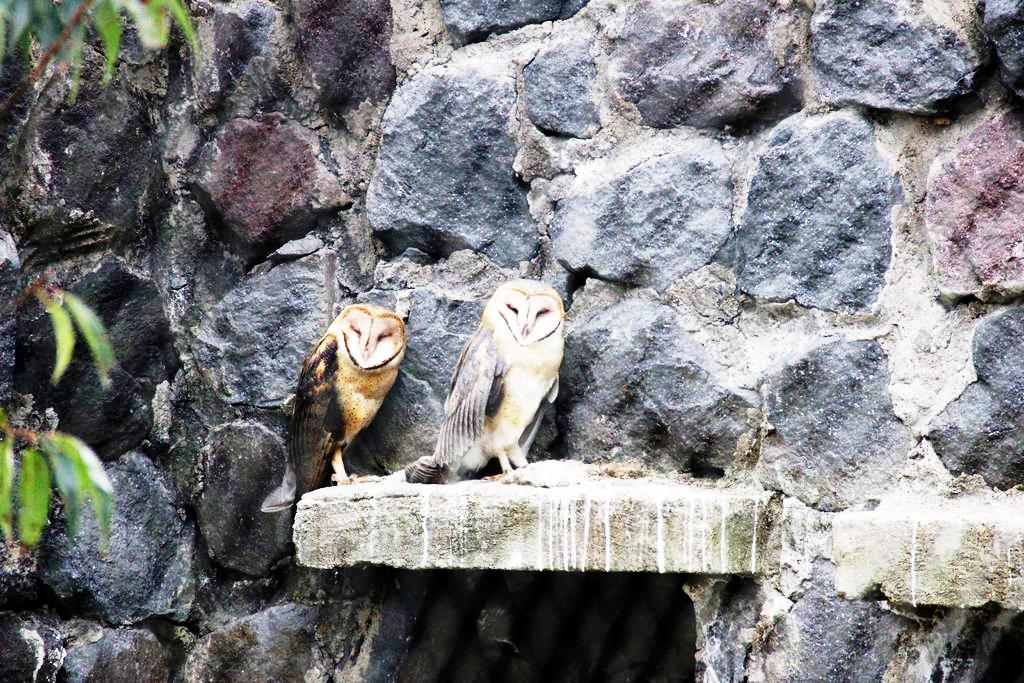Owl: (409, 280, 569, 485), (281, 296, 407, 526)
